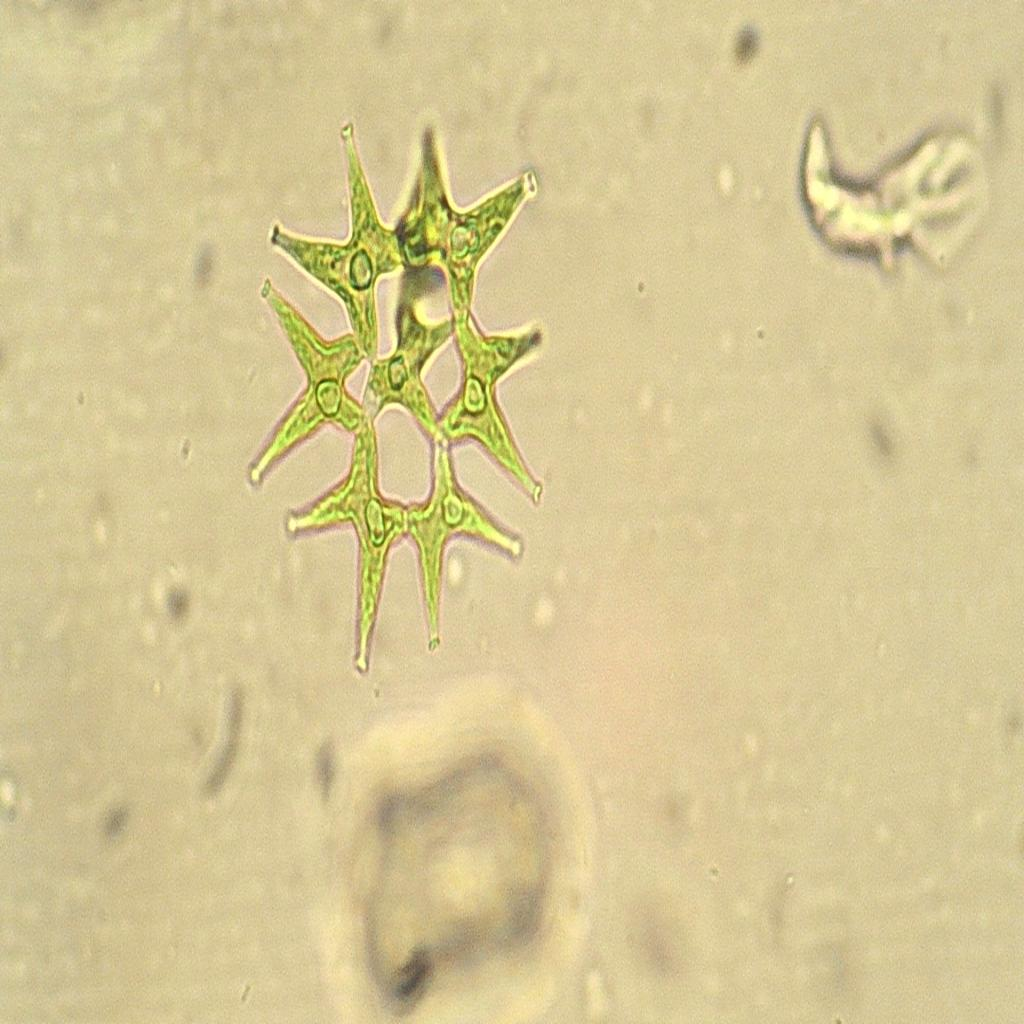Pediastrum_1T: (228, 110, 588, 692)
